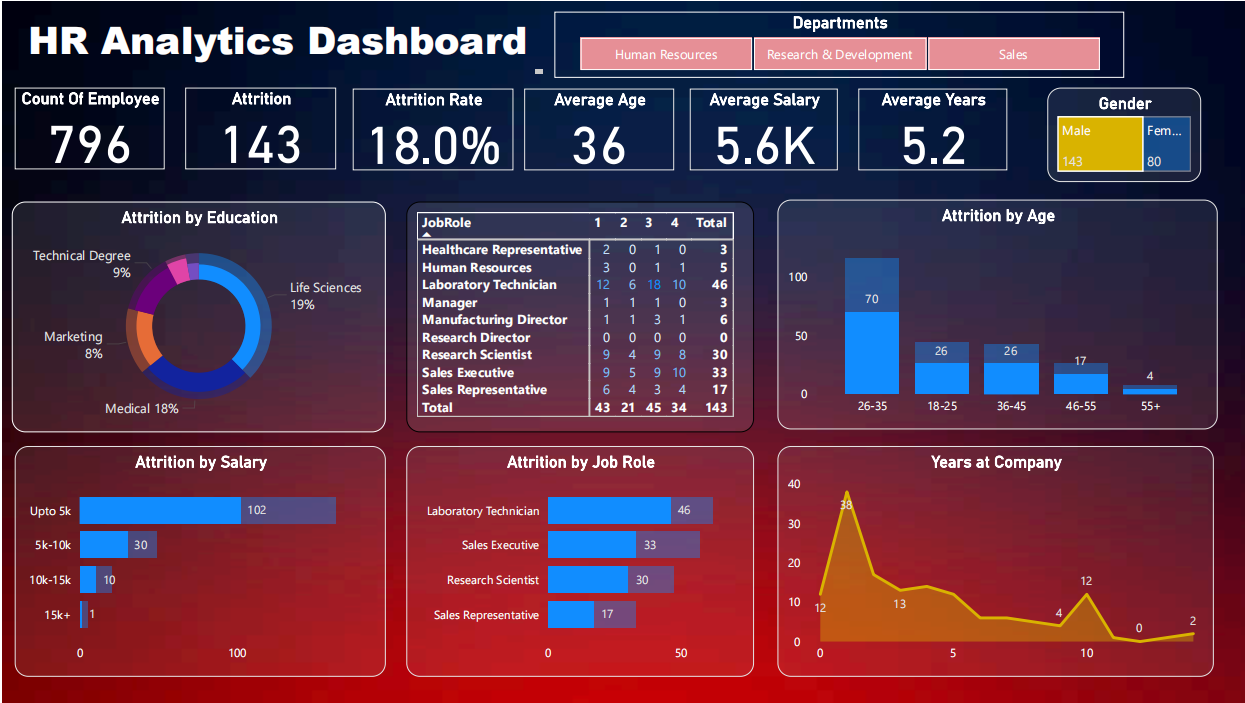

The page's visual inventory and layout, read from the dashboard file:
{"tool":"powerbi","page":{"name":"Page 1","canvas":[1280,720],"ordinal":0},"visuals":[{"type":"card","title":"Count Of Employee","fields":{"Values":["CountNonNull(HR_Analytics.EmpID)"]},"box":[12.7,87.9,154.1,84.1],"z":0},{"type":"card","title":"Attrition","fields":{"Values":["Sum(HR_Analytics.AttritionCount)"]},"box":[188.5,87.9,154.1,84.1],"z":1000},{"type":"card","title":"Attrition Rate","fields":{"Values":["HR_Analytics.AttritionRate"]},"box":[360.4,89.2,164.3,84.1],"z":2000},{"type":"card","title":"Average Age","fields":{"Values":["Avg(HR_Analytics.Age)"]},"box":[536.2,89.2,154.1,84.1],"z":3000},{"type":"card","title":"Average Salary","fields":{"Values":["Avg(HR_Analytics.MonthlyIncome)"]},"box":[705.6,89.2,152.8,84.1],"z":4000},{"type":"card","title":"Average Years","fields":{"Values":["Avg(HR_Analytics.YearsAtCompany)"]},"box":[878.8,89.2,152.8,84.1],"z":5000},{"type":"donutChart","title":"Attrition by Education","fields":{"Category":["HR_Analytics.EducationField"],"Y":["Sum(HR_Analytics.AttritionCount)"]},"box":[10.2,205.1,383.4,236.9],"z":6000},{"type":"columnChart","title":" Attrition by Age ","fields":{"Category":["HR_Analytics.AgeGroup"],"Y":["Sum(HR_Analytics.AttritionCount)"]},"box":[796,202.5,452.1,236.9],"z":7000},{"type":"pivotTable","fields":{"Rows":["HR_Analytics.JobRole"],"Columns":["HR_Analytics.JobSatisfaction"],"Values":["Sum(HR_Analytics.AttritionCount)"]},"box":[415.2,205.1,356.6,236.9],"z":8000},{"type":"barChart","title":" Attrition by Salary","fields":{"Category":["HR_Analytics.SalarySlab"],"Y":["Sum(HR_Analytics.AttritionCount)"]},"box":[12.7,456,380.8,236.9],"z":9000},{"type":"barChart","title":" Attrition by Job Role","fields":{"Category":["HR_Analytics.JobRole"],"Y":["Sum(HR_Analytics.AttritionCount)"]},"box":[415.2,456,356.6,236.9],"z":10000},{"type":"areaChart","title":"Years at Company","fields":{"Category":["HR_Analytics.YearsAtCompany"],"Y":["Sum(HR_Analytics.AttritionCount)"]},"box":[796,456,448.3,236.9],"z":11000},{"type":"treemap","title":"Gender","fields":{"Group":["HR_Analytics.Gender"],"Values":["Sum(HR_Analytics.AttritionCount)"]},"box":[1073.1,87.9,158.1,96.8],"z":12000},{"type":"slicer","title":"Departments","fields":{"Values":["HR_Analytics.Department"]},"box":[567,9.7,585.1,68.8],"z":13000},{"type":"textbox","title":"HR Analytics Dashboard","box":[21.7,10.2,538.7,68.8],"z":14000}]}

Visuals, with their boxes in screenshot pixels (x1, y1, x2, y2), scaled from the page's 1280x720 canvas onto the 1245x703 screenshot:
"Count Of Employee" card: region(12, 86, 162, 168)
"Attrition" card: region(183, 86, 333, 168)
"Attrition Rate" card: region(351, 87, 510, 169)
"Average Age" card: region(522, 87, 671, 169)
"Average Salary" card: region(686, 87, 835, 169)
"Average Years" card: region(855, 87, 1003, 169)
"Attrition by Education" donutChart: region(10, 200, 383, 432)
" Attrition by Age " columnChart: region(774, 198, 1214, 429)
pivotTable - HR_Analytics.JobRole x HR_Analytics.JobSatisfaction: region(404, 200, 751, 432)
" Attrition by Salary" barChart: region(12, 445, 383, 677)
" Attrition by Job Role" barChart: region(404, 445, 751, 677)
"Years at Company" areaChart: region(774, 445, 1210, 677)
"Gender" treemap: region(1044, 86, 1198, 180)
"Departments" slicer: region(551, 9, 1121, 77)
"HR Analytics Dashboard" textbox: region(21, 10, 545, 77)
